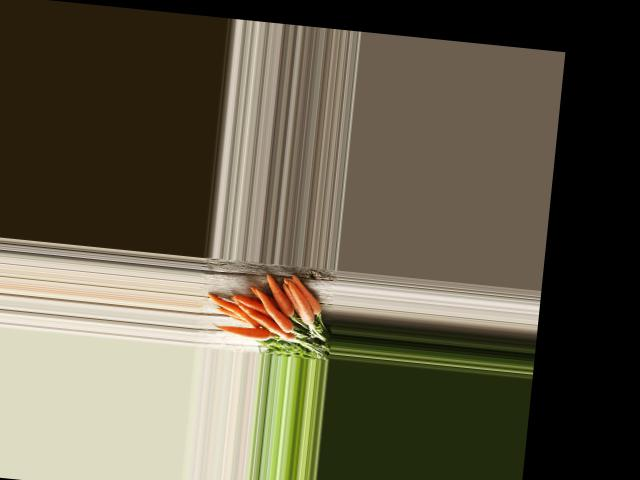carrot: (215, 322, 270, 345)
